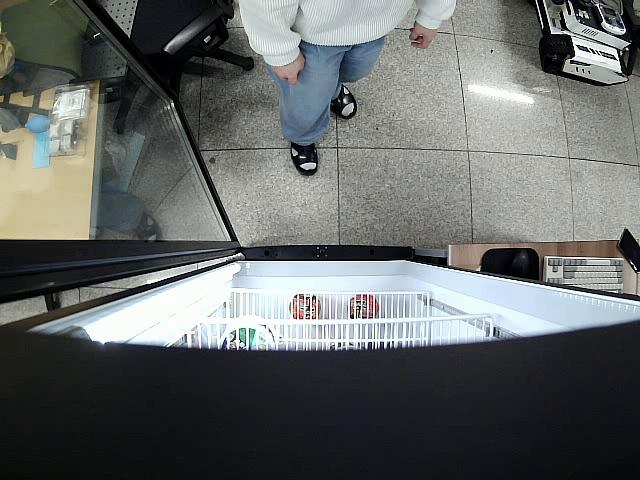00_hand: (271, 52, 307, 87), (406, 21, 439, 49)
